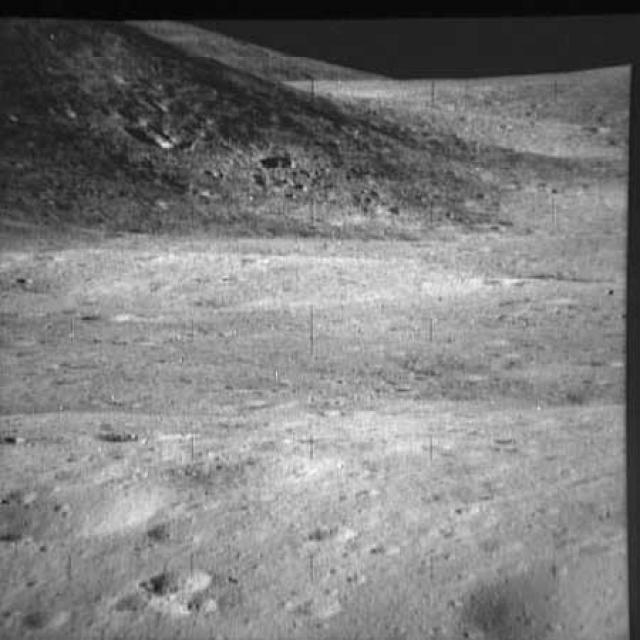crater: (431, 553, 639, 639), (0, 465, 172, 552), (138, 558, 234, 602), (84, 421, 196, 447), (290, 518, 362, 556), (111, 120, 172, 152)
